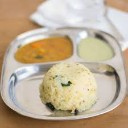venpongal: (45, 64, 97, 108)
